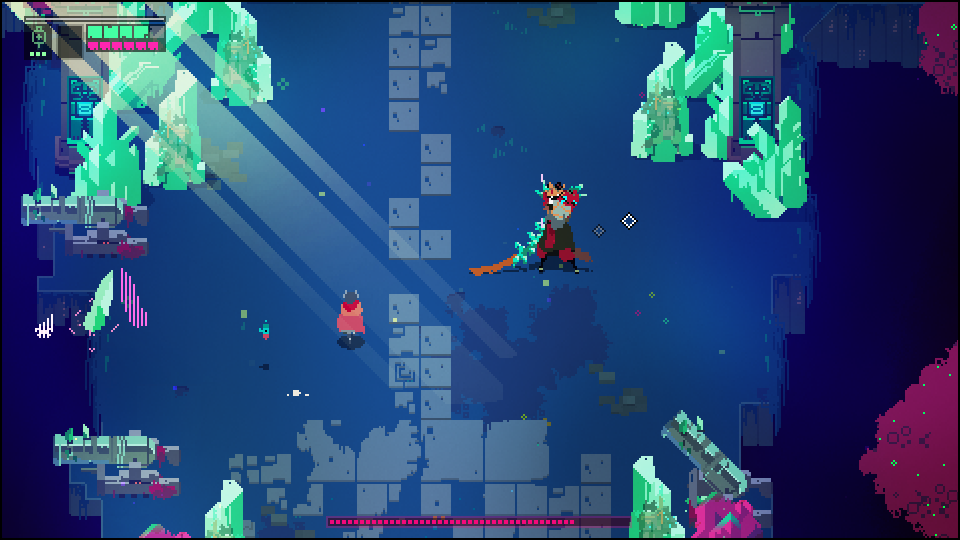hanged_crys: (81, 266, 117, 335), (117, 262, 151, 324)
hanged_man: (502, 169, 593, 284)
player: (335, 287, 369, 348)
